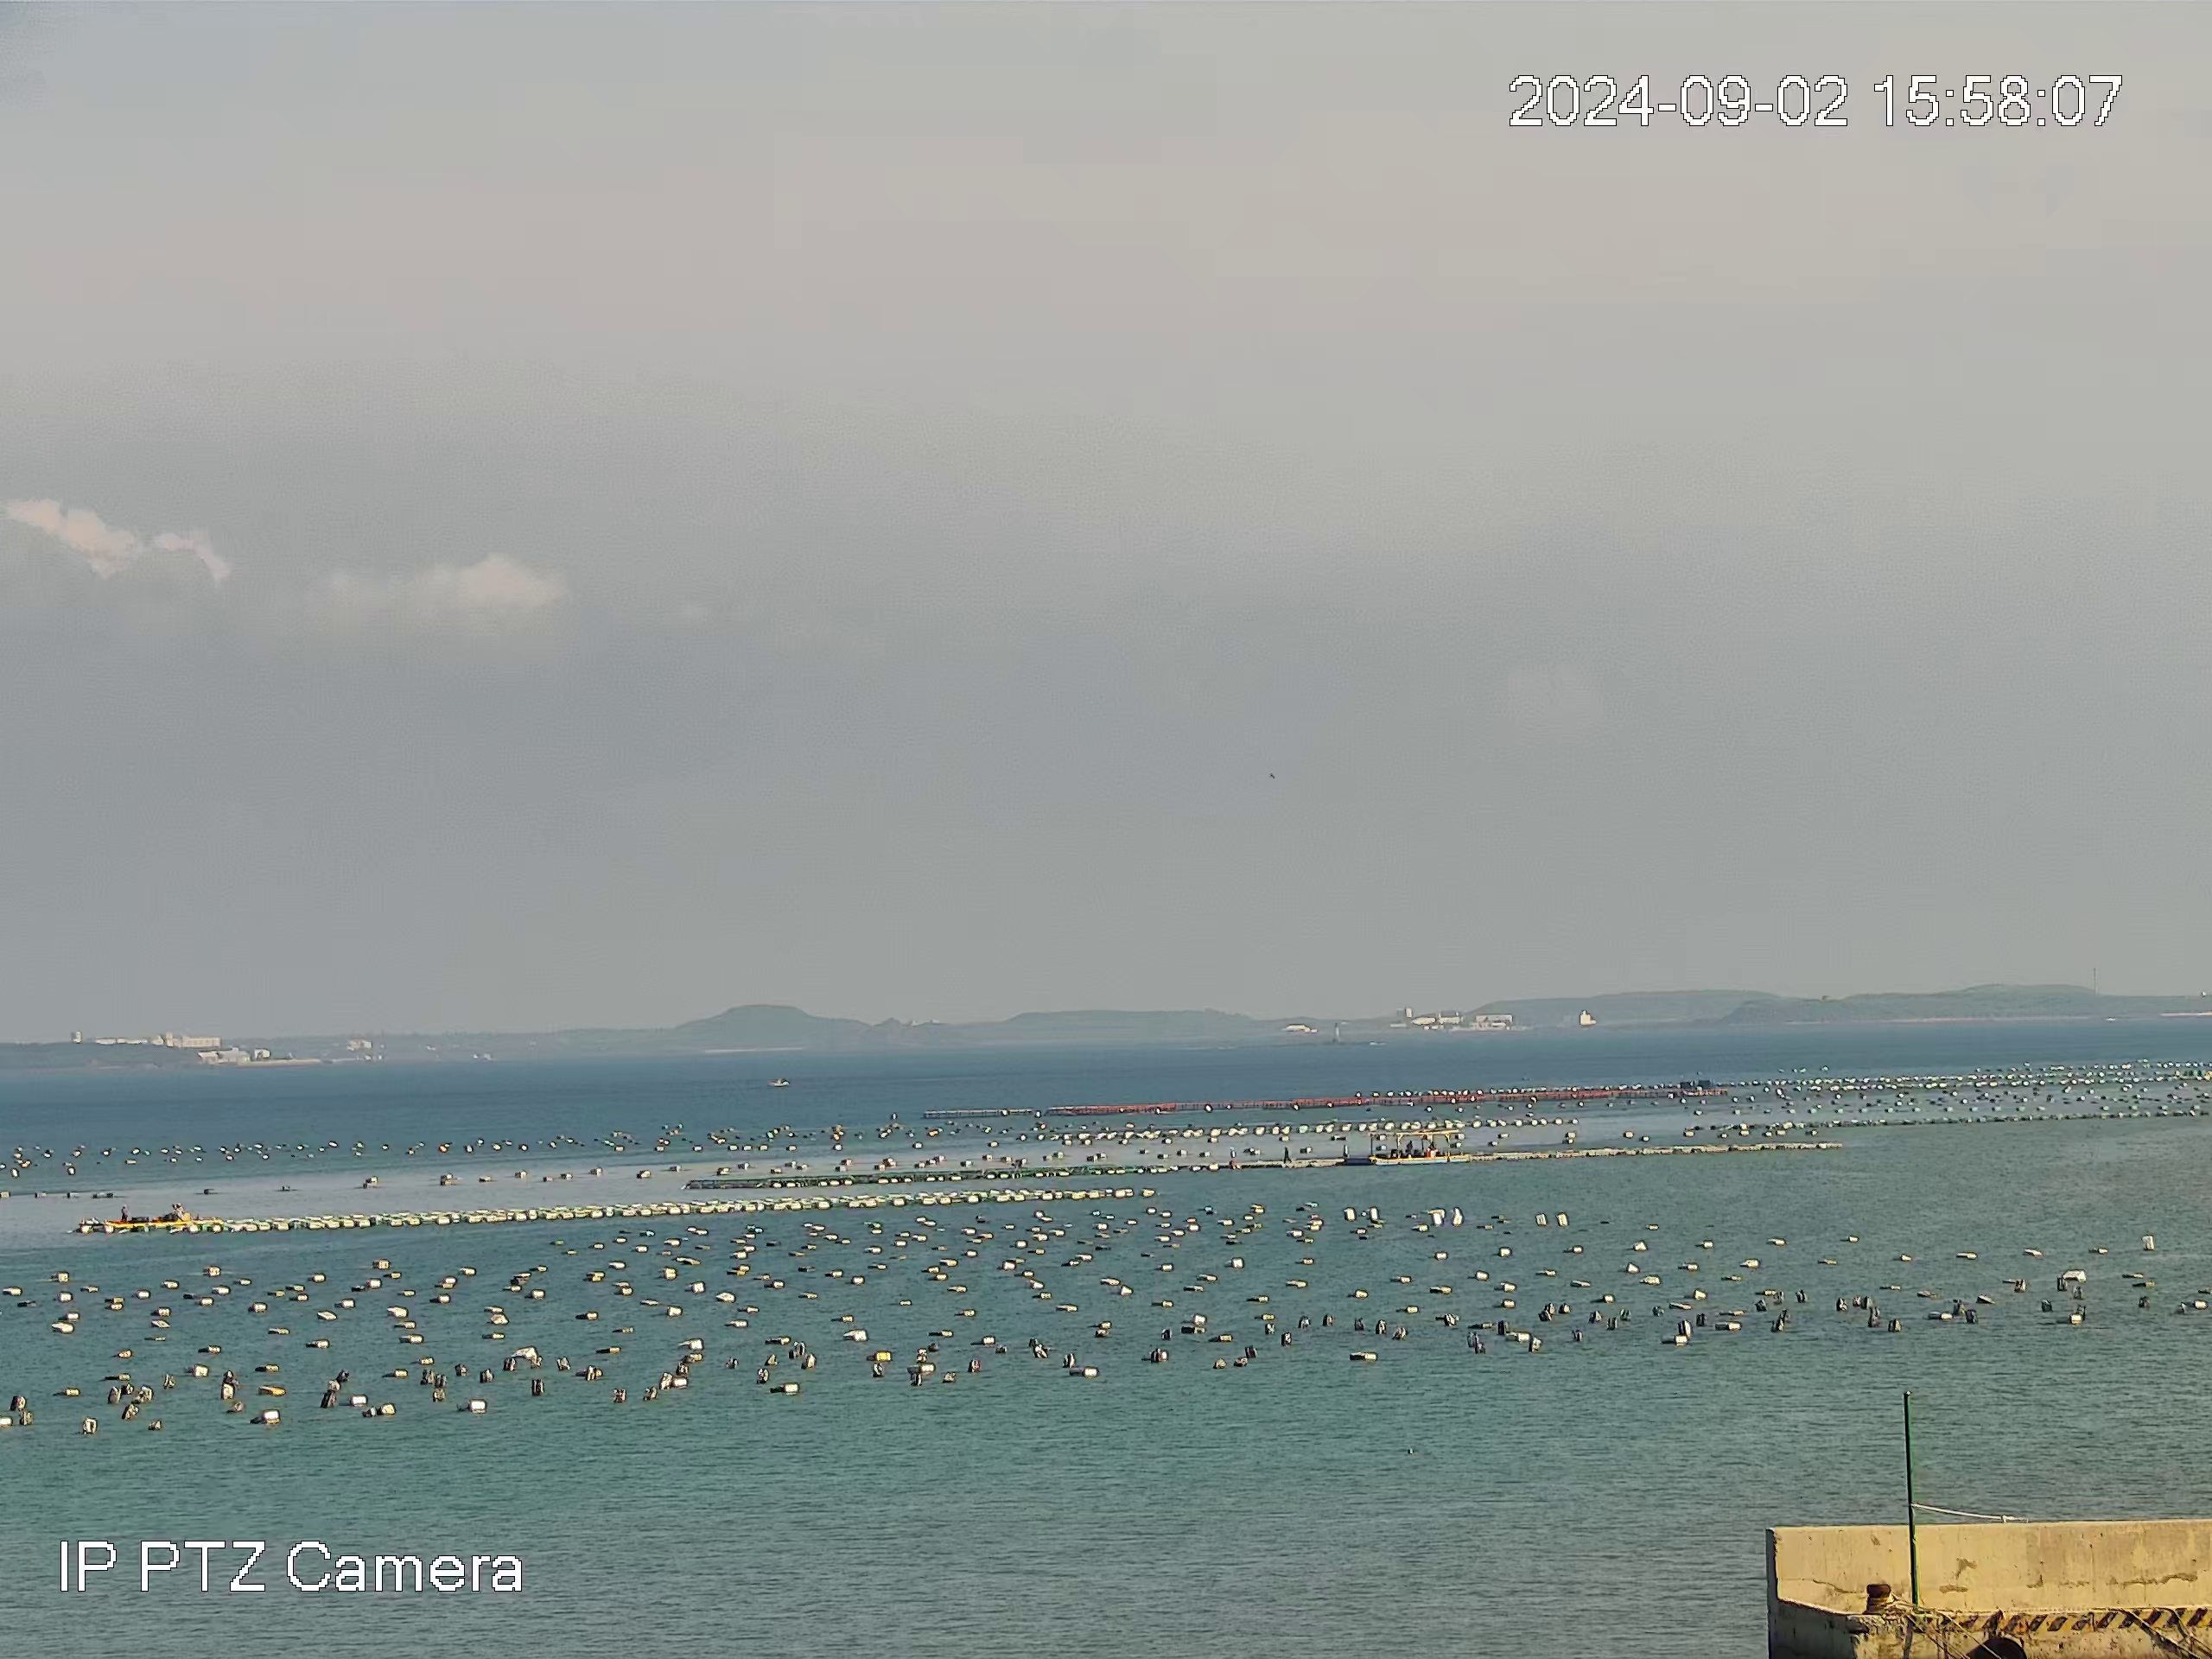boat: (1367, 1128, 1471, 1167), (102, 1202, 226, 1227), (766, 1077, 790, 1088)
